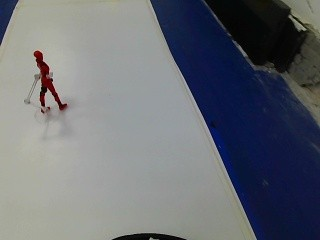pedestrian: (25, 47, 74, 116)
